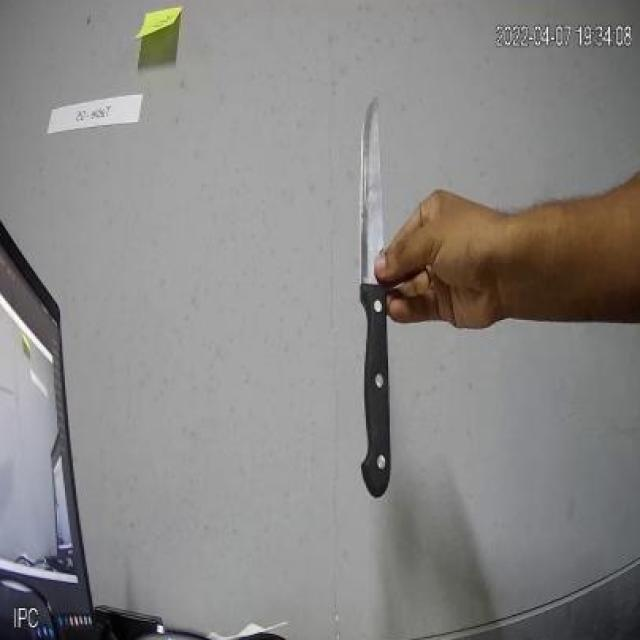Knife: (347, 76, 412, 493)
